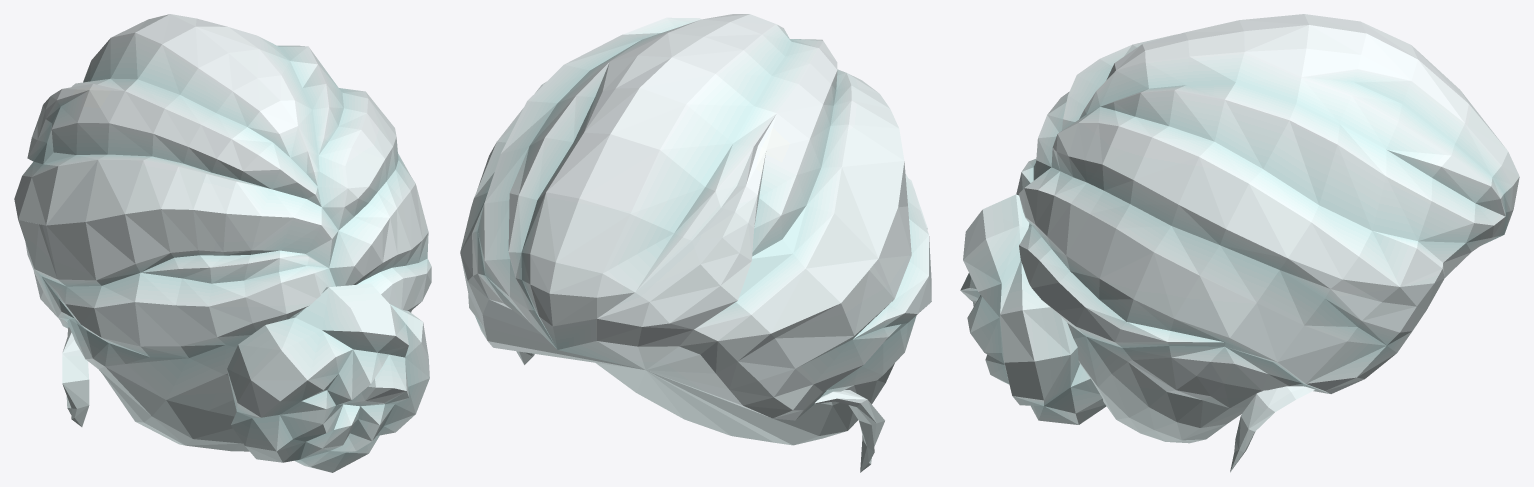
The model's file is CharSkyKid_Hair_AP03Upstyle_01.glb.
3 views of the same model, side by side, from view 1: azimuth 30°, elevation 25°; view 2: azimuth 150°, elevation 25°; view 3: azimuth 270°, elevation 25° (orthographic). The views are drawn at different scales.
Parts seen in each view (by area): view 1: CharSkyKid_Hair_AP03Upstyle_01; view 2: CharSkyKid_Hair_AP03Upstyle_01; view 3: CharSkyKid_Hair_AP03Upstyle_01.
Boxes of the visible parts, x1,y1,x2,y2 form: CharSkyKid_Hair_AP03Upstyle_01: (14, 14, 431, 472); CharSkyKid_Hair_AP03Upstyle_01: (460, 14, 931, 472); CharSkyKid_Hair_AP03Upstyle_01: (960, 14, 1519, 472).
Size of the model in its own units: 2.82 by 2.91 by 3.68.
Materials: 1 (1 with a texture image).
